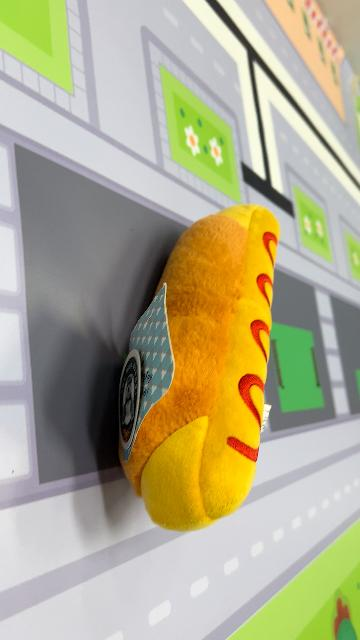hotdog: (116, 202, 282, 534)
